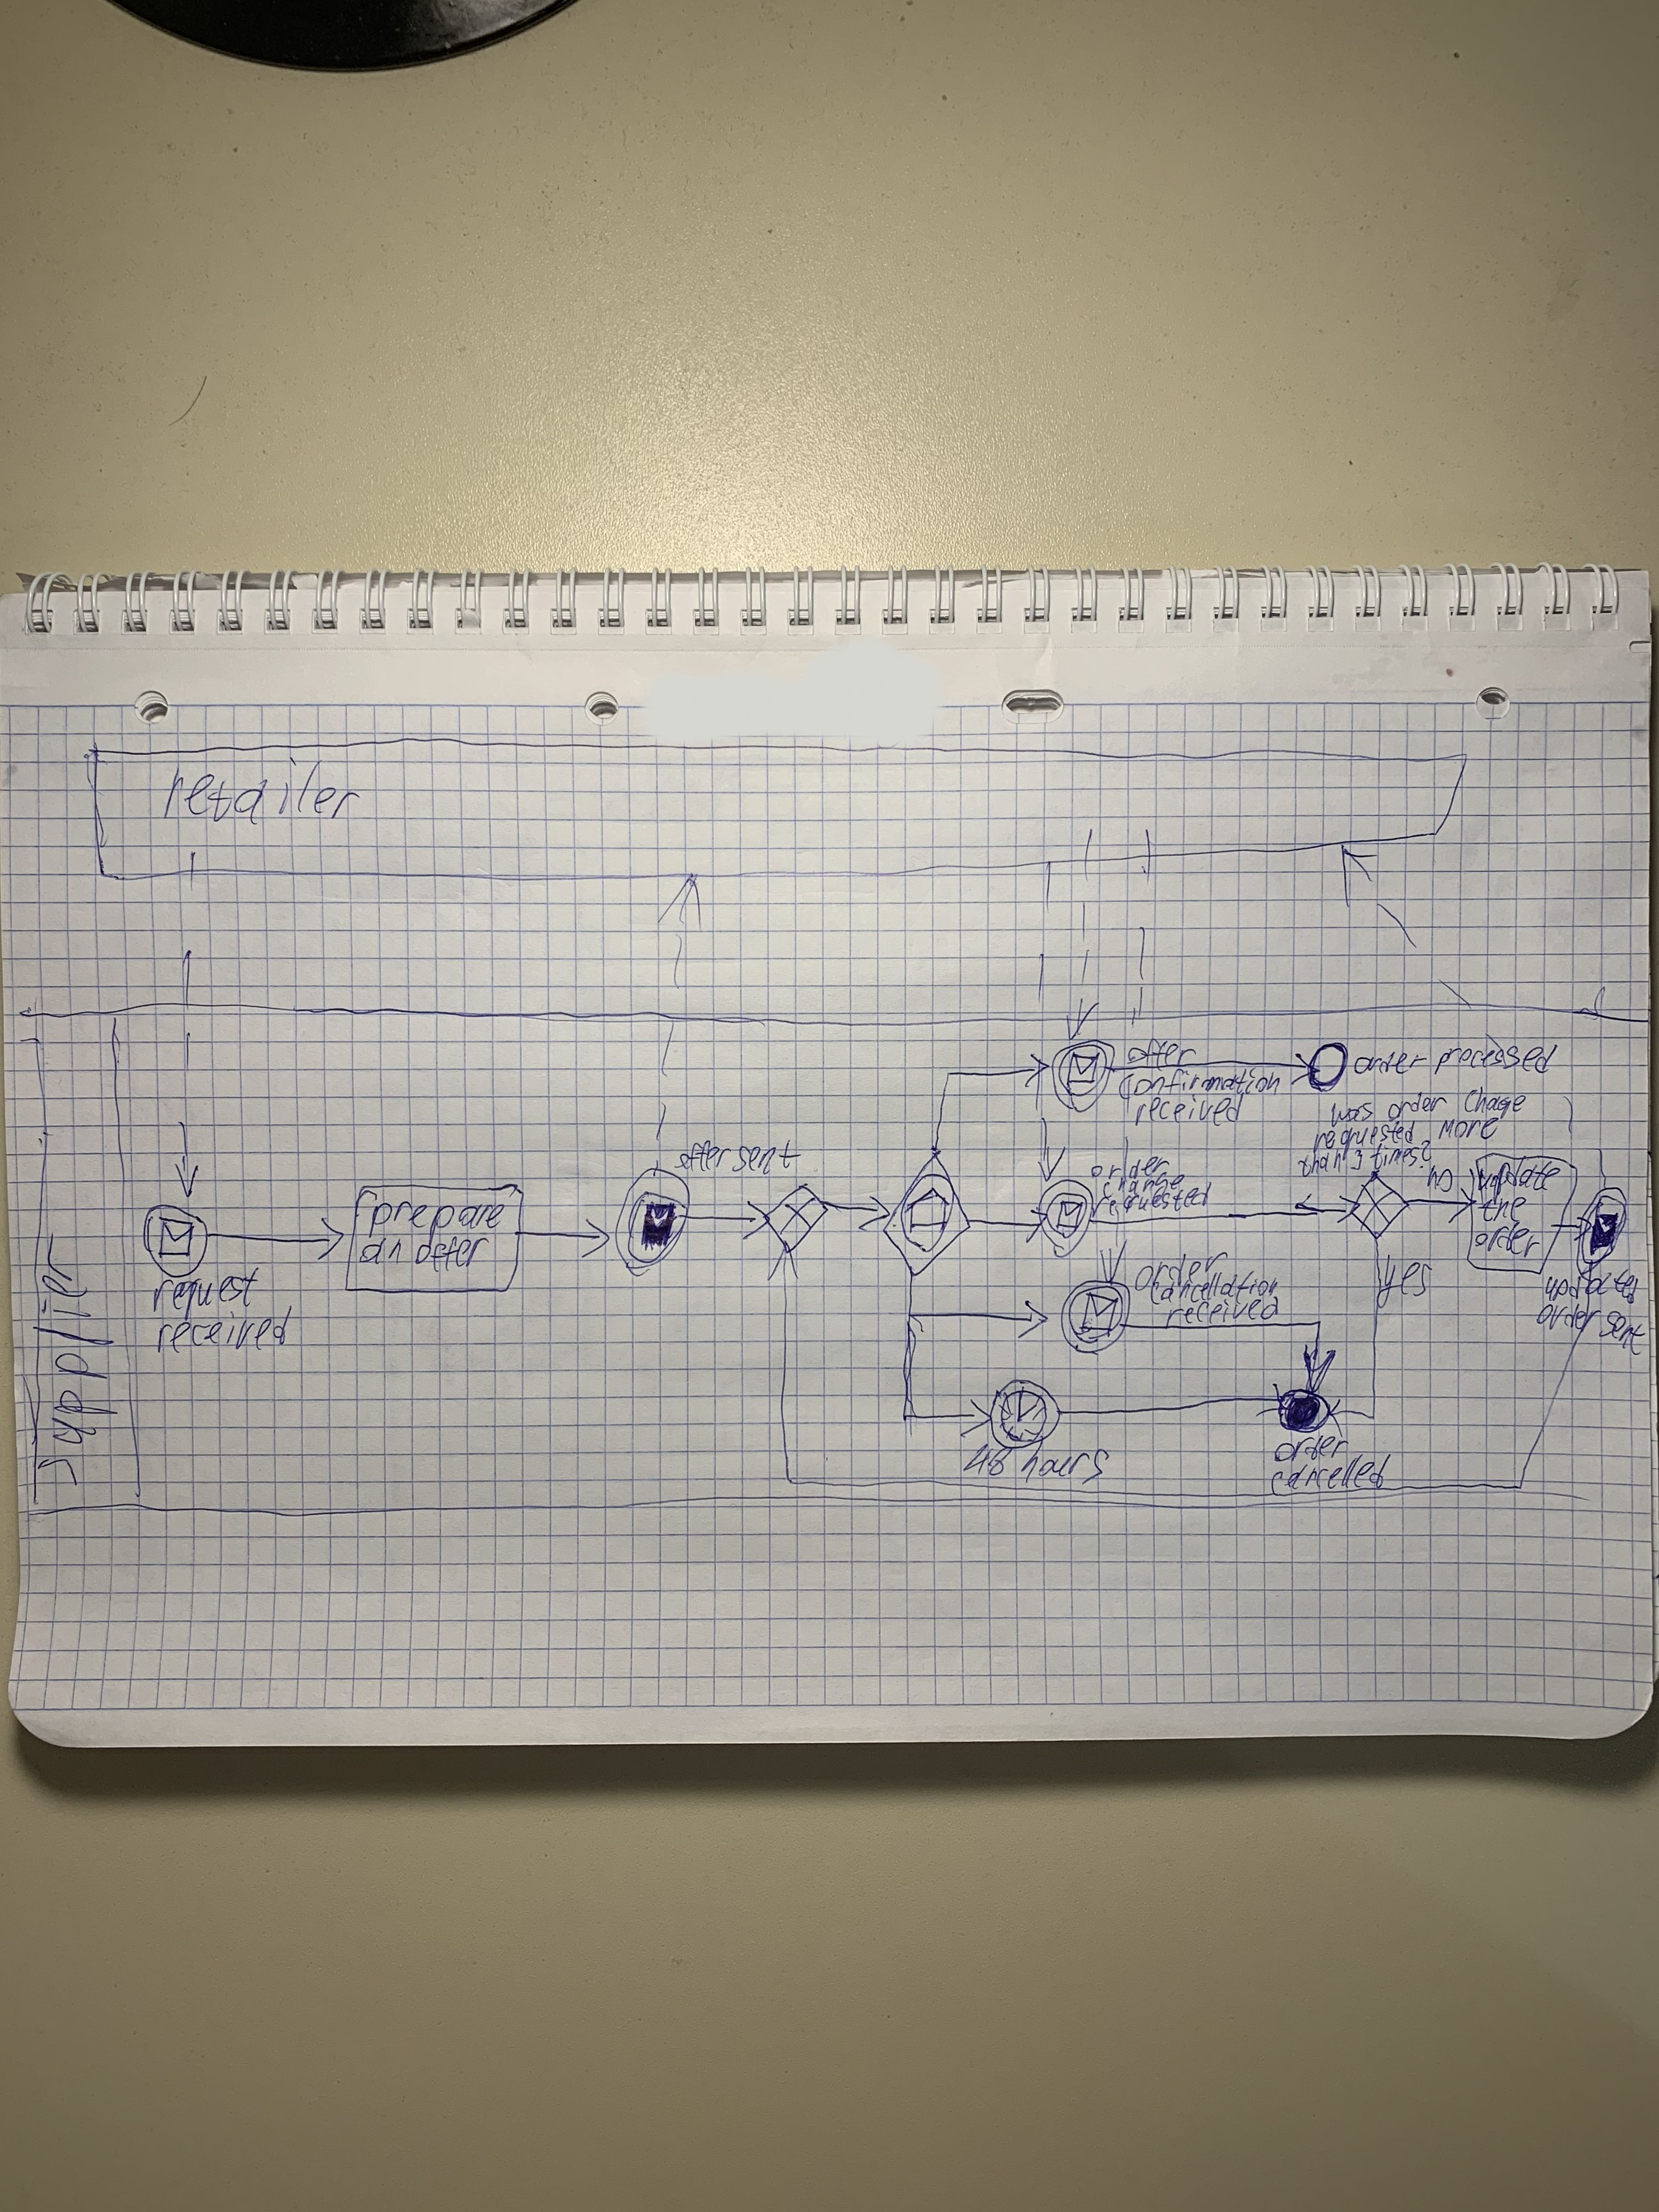3: (1351, 1146, 1363, 1170)
48: (971, 1435, 1014, 1482)
Cancellation: (1141, 1270, 1279, 1308)
Supplier: (28, 1240, 101, 1482)
an: (357, 1240, 399, 1264)
cancelled: (1269, 1449, 1392, 1493)
change: (1452, 1089, 1527, 1118), (1096, 1170, 1190, 1193)
confirmation: (1115, 1069, 1284, 1092)
hours: (1016, 1444, 1114, 1480)
more: (1424, 1113, 1493, 1148)
no: (1422, 1162, 1457, 1191)
offer: (1269, 1426, 1345, 1460), (1126, 1031, 1197, 1066), (671, 1137, 732, 1172), (413, 1237, 491, 1261)
order: (1127, 1242, 1220, 1278), (1356, 1042, 1429, 1078), (1377, 1090, 1446, 1123), (1467, 1230, 1546, 1254), (1534, 1303, 1600, 1331), (1094, 1150, 1168, 1174)
prepare: (368, 1190, 519, 1235)
processed: (1439, 1033, 1554, 1075)
received: (152, 1308, 293, 1352), (1168, 1292, 1286, 1332), (1129, 1092, 1243, 1129)
request: (146, 1266, 261, 1317)
requested: (1307, 1120, 1417, 1158), (1094, 1188, 1218, 1212)
retailer: (157, 754, 366, 827)
sent: (732, 1134, 795, 1172), (1607, 1305, 1645, 1353)
than: (1297, 1153, 1344, 1172)
the: (1480, 1198, 1532, 1226)
times?: (1373, 1141, 1431, 1170)
update: (1476, 1153, 1554, 1191)
updated: (1546, 1273, 1642, 1298)
was: (1324, 1096, 1371, 1129)
yes: (1382, 1258, 1438, 1308)
